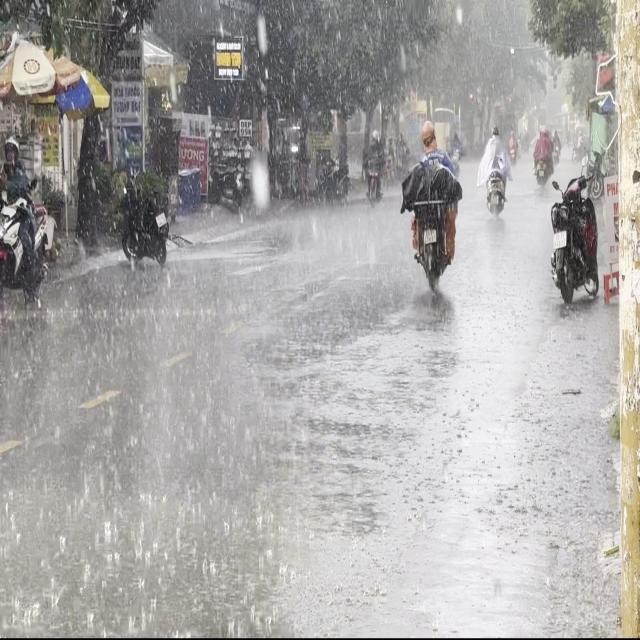helmet: (3, 135, 19, 164), (421, 119, 436, 149)
licenseplate: (404, 118, 460, 290), (0, 133, 50, 294)
nohelmet: (423, 230, 436, 244)
